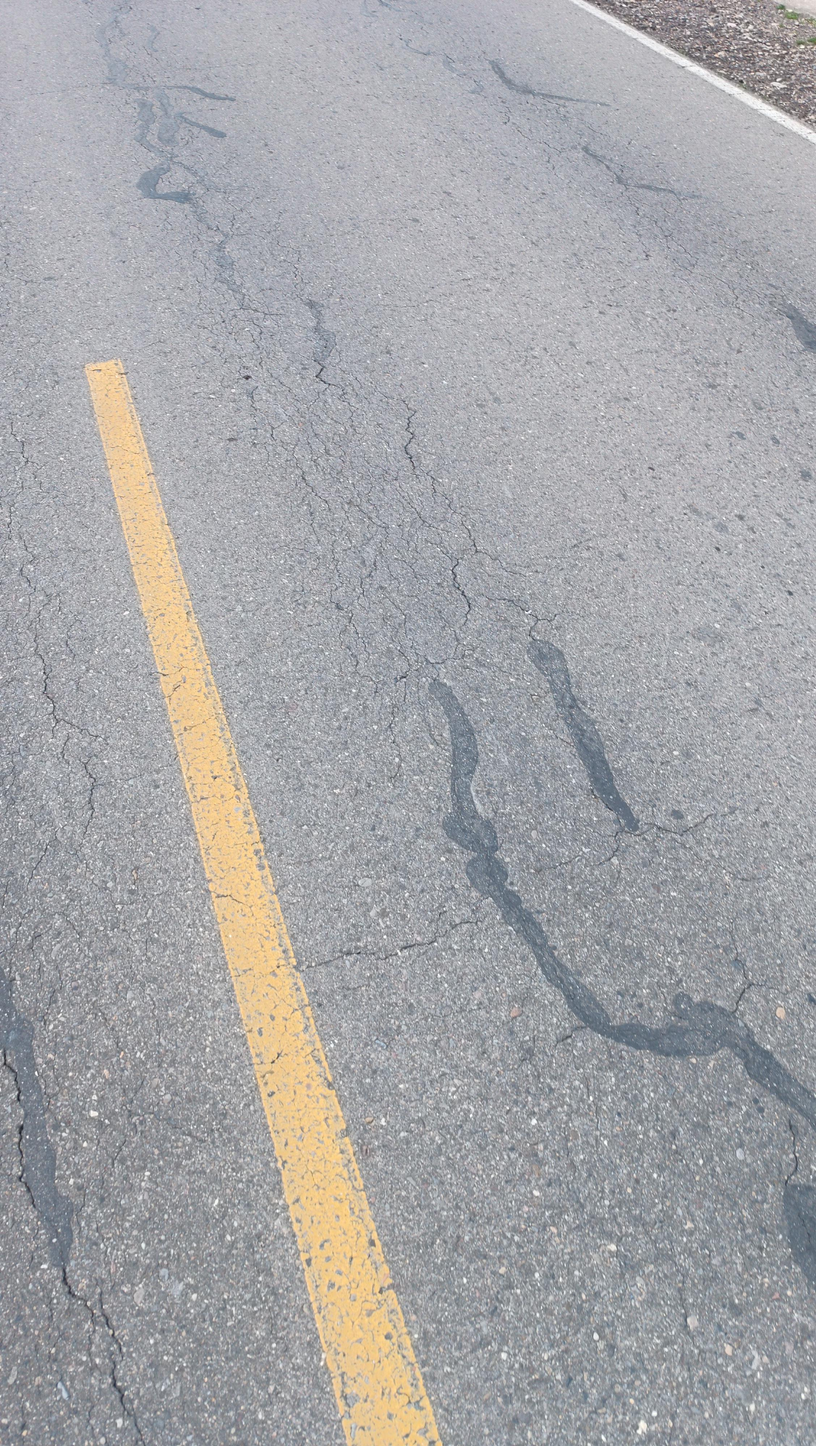GRIETA: (443, 757, 816, 1126), (548, 654, 633, 823), (306, 920, 480, 970), (598, 814, 728, 865), (730, 934, 754, 1013)
PIEL DE COCODRILO: (135, 171, 545, 782), (0, 936, 170, 1446), (0, 513, 117, 900)
